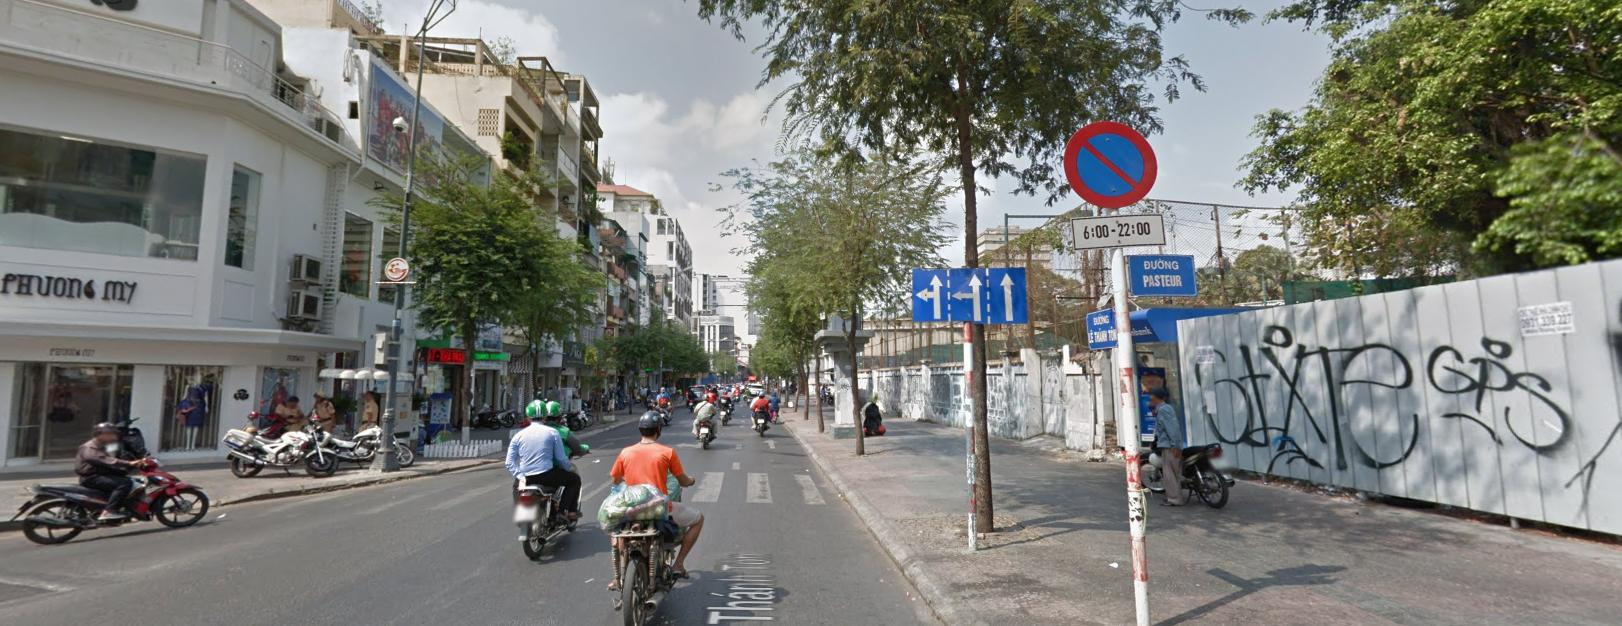Cam dung va do: (1051, 113, 1175, 207)
